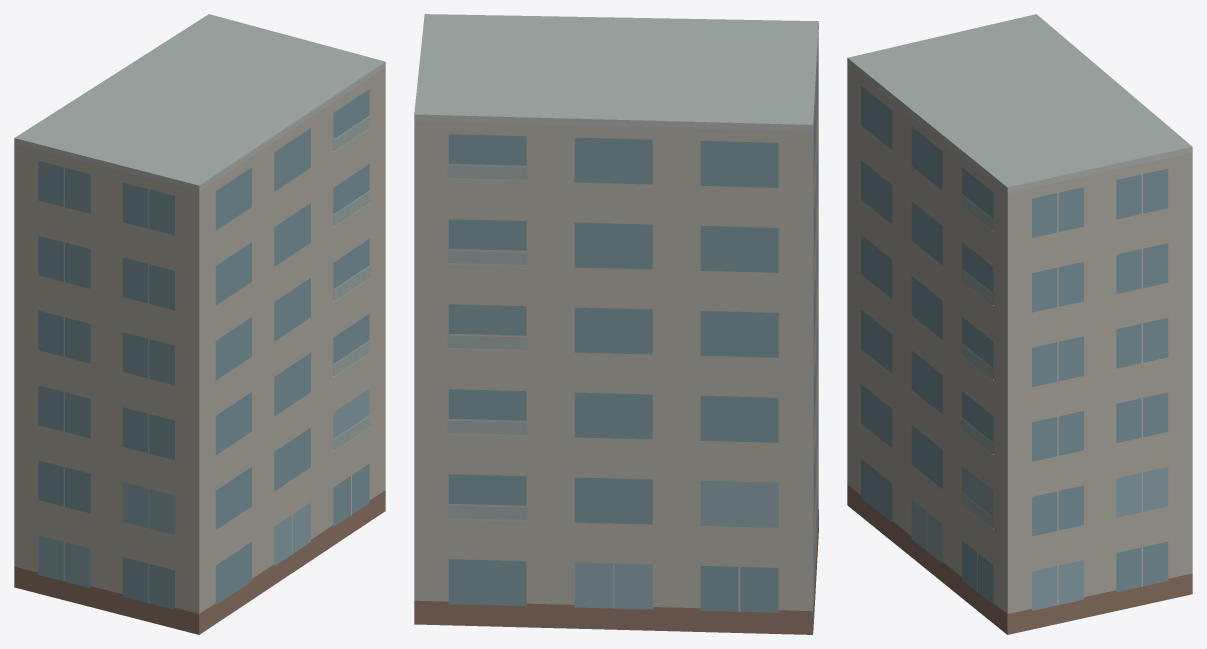
The model's file is survey-upis-32976196.glb.
The picture shows the model from 3 angles, left to right: view 1: azimuth 30°, elevation 25°; view 2: azimuth 150°, elevation 25°; view 3: azimuth 270°, elevation 25°; orthographic projection. The views are drawn at different scales.
Parts seen in each view (by area): view 1: survey-upis-32976196.tmp; view 2: survey-upis-32976196.tmp; view 3: survey-upis-32976196.tmp.
Part boxes in pixels (x1,y1,x2,y2): survey-upis-32976196.tmp: (14, 14, 385, 634); survey-upis-32976196.tmp: (414, 14, 818, 634); survey-upis-32976196.tmp: (847, 14, 1192, 634).
Bounding box in the file's own units: 15.47 × 18.6 × 13.02.
